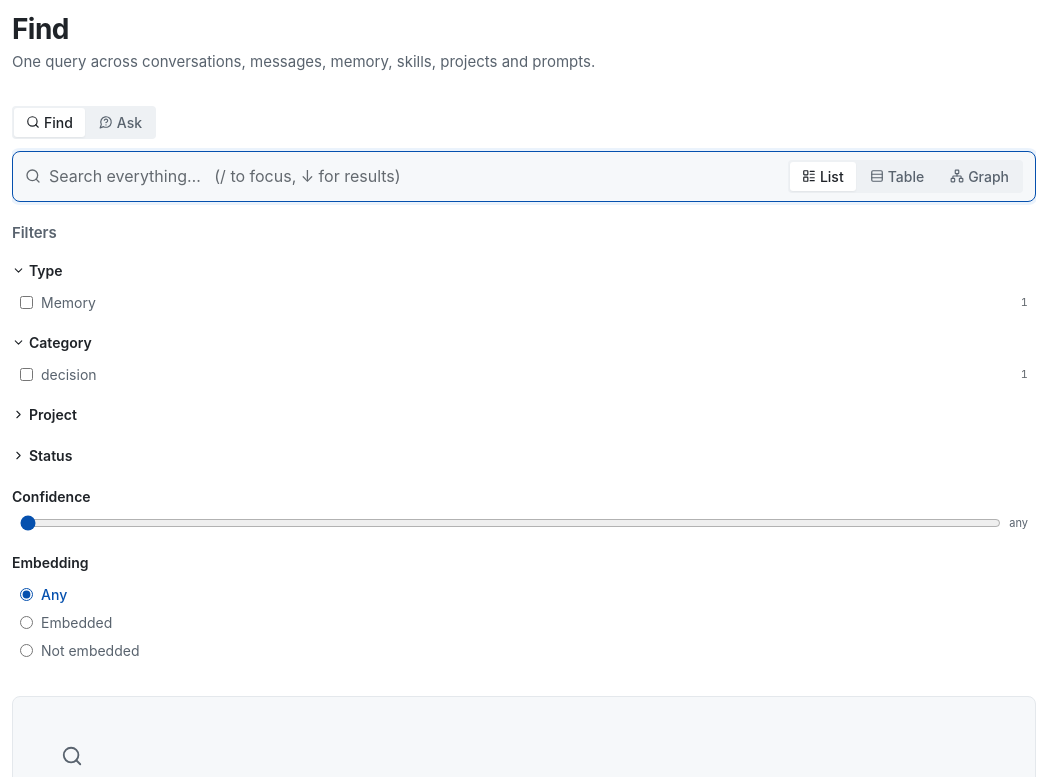
Test case: Find and Ask reuse › separates the Find or Ask intent from Find result layouts
Expected: the element named "Result layout" is shown, [788,160,1023,192]
Click the button "Ask".
click(121, 122)  # box [87,108,154,136]
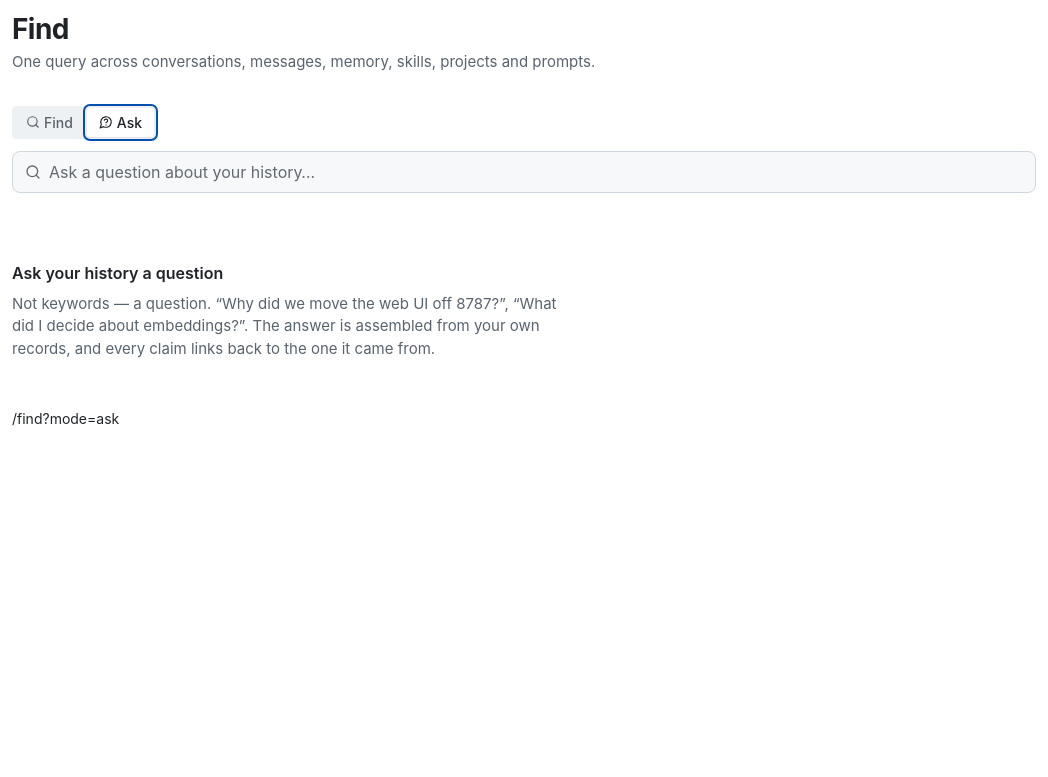
Result: the search field named "Ask your history" is shown at [49,160,1023,184]
